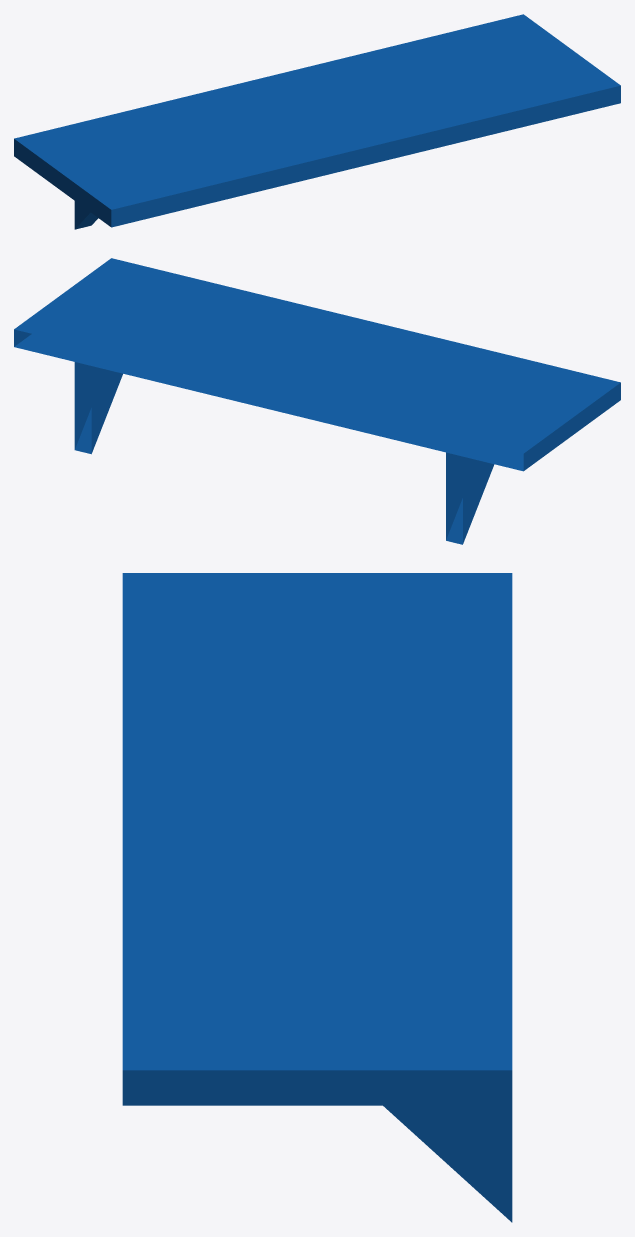
Rendered from bookshelf.fbx.
The picture shows the model from 3 angles, top to bottom: view 1: azimuth 30°, elevation 25°; view 2: azimuth 150°, elevation 25°; view 3: azimuth 270°, elevation 25°; orthographic projection. The views are drawn at different scales.
Parts seen in each view (by area): view 1: P_bookshelf; view 2: P_bookshelf; view 3: P_bookshelf.
Boxes of the visible parts, x1,y1,x2,y2 form: P_bookshelf: [14, 14, 620, 229]; P_bookshelf: [14, 258, 620, 544]; P_bookshelf: [122, 573, 512, 1222].
Bounding box in the file's own units: 151 × 30 × 50.
